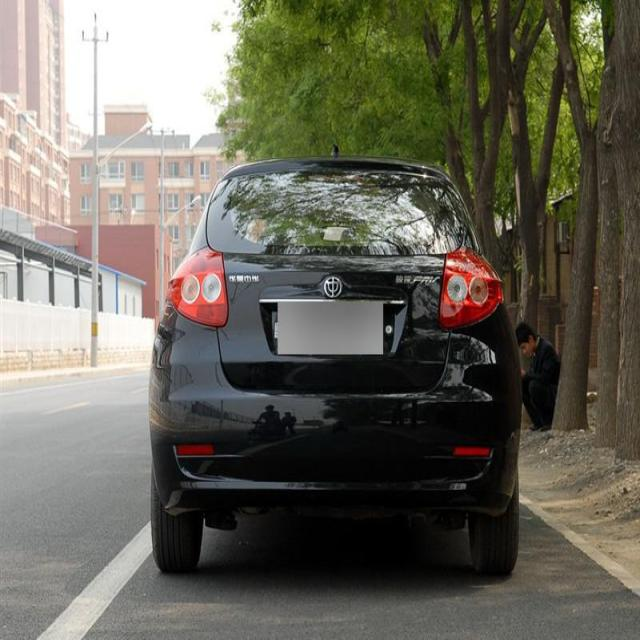back_glass: (204, 167, 469, 263)
back_left_side_light: (167, 242, 230, 330)
back_right_side_light: (439, 243, 505, 334)
rear_bumper: (149, 310, 522, 508)
